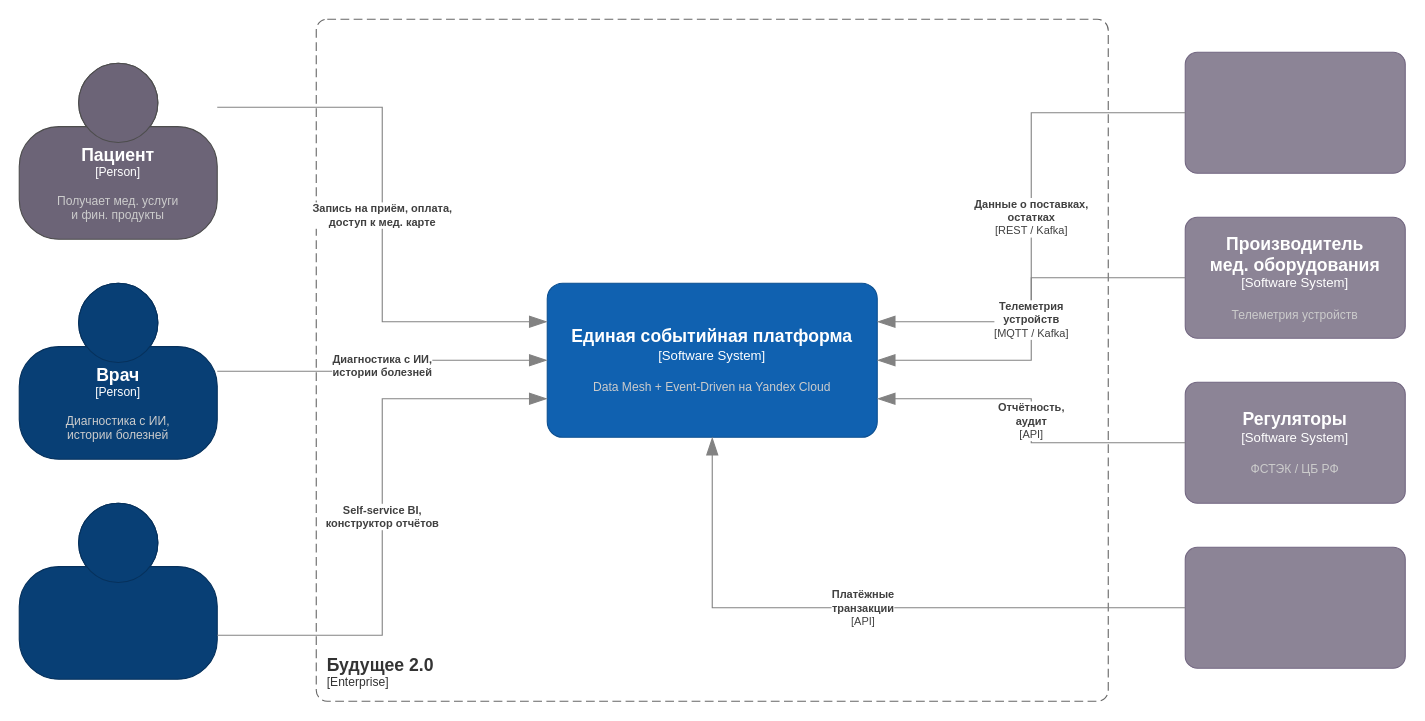
Image size: 1425x721. Some labels were removed from this diagram. The shapes that lost their labels are listed below. From the top down, each one's centre as x and y in pixels, then its label:
At (1294,112): "Фарм-компании [Software System] Поставщики лекарств".
At (117,590): "BI-аналитик [Person] Self-service BI, конструктор отчётов".
At (1294,607): "Платёжные системы [Software System] Мир, Visa, СБП".
